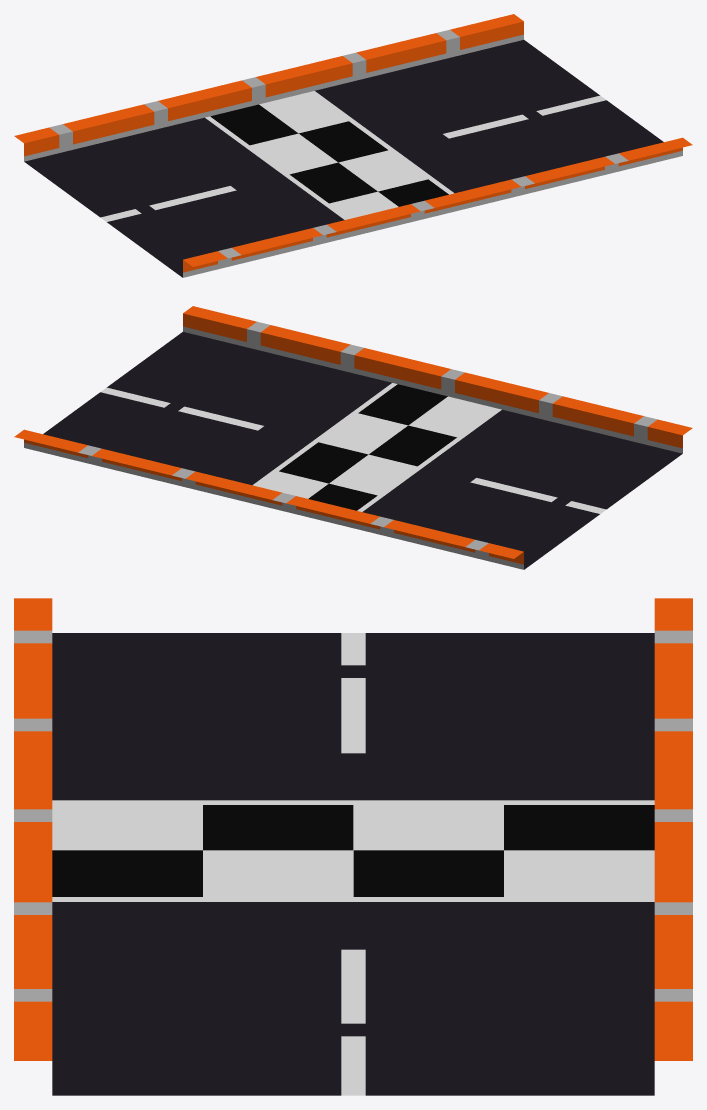
Rendered from StartFinishRoadPart.fbx.
The picture shows the model from 3 angles, top to bottom: view 1: azimuth 30°, elevation 25°; view 2: azimuth 150°, elevation 25°; view 3: azimuth 270°, elevation 25°; orthographic projection. The views are drawn at different scales.
Visible parts, largest first — view 1: Plane; view 2: Plane; view 3: Plane.
Boxes of the visible parts, x1=… form: Plane: x1=14, y1=14, x2=692, y2=277; Plane: x1=14, y1=306, x2=692, y2=569; Plane: x1=14, y1=598, x2=692, y2=1095.
Bounding box in the file's own units: 2000 × 70 × 1240.
